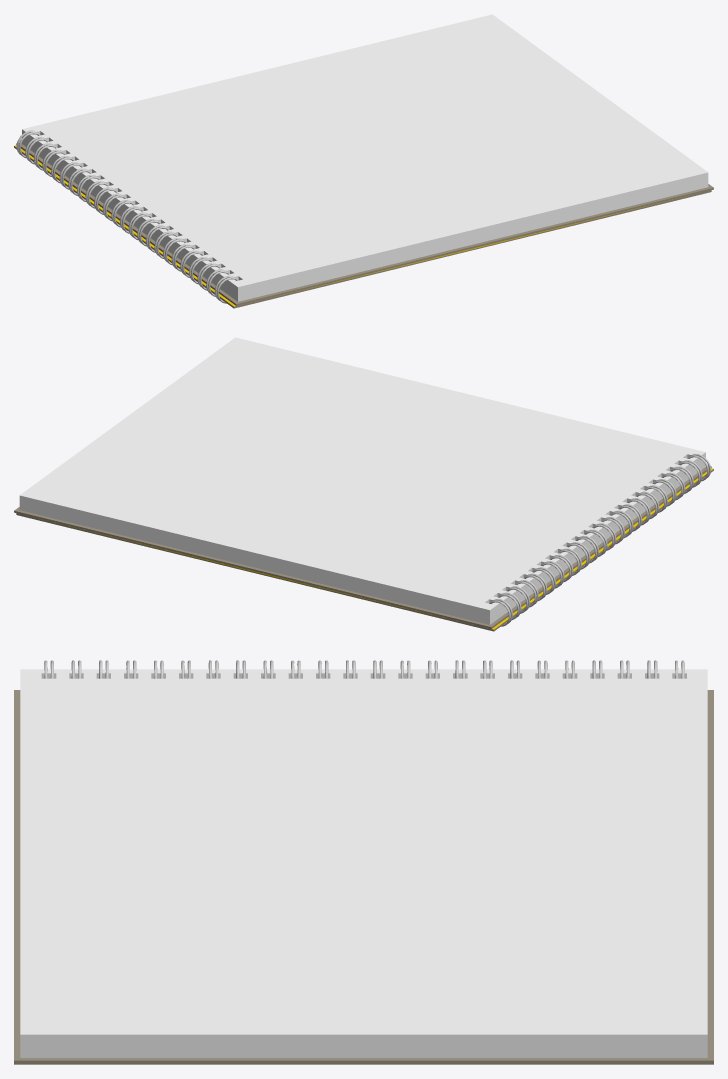
File: 430_スケッチブック小開.glb
The picture shows the model from 3 angles, top to bottom: view 1: azimuth 30°, elevation 25°; view 2: azimuth 150°, elevation 25°; view 3: azimuth 270°, elevation 25°; orthographic projection. The views are drawn at different scales.
Parts seen in each view (by area): view 1: 用紙部分, リング, 裏表紙, 表紙; view 2: 用紙部分, リング, 裏表紙, 表紙; view 3: 用紙部分, 裏表紙, リング, 表紙.
Boxes of the visible parts, left/top/right/bottom form: 用紙部分: left=22, top=14, right=708, bottom=301; リング: left=16, top=130, right=238, bottom=303; 裏表紙: left=16, top=143, right=713, bottom=305; 表紙: left=14, top=145, right=711, bottom=308; 用紙部分: left=19, top=337, right=705, bottom=624; リング: left=489, top=454, right=710, bottom=626; 裏表紙: left=14, top=465, right=711, bottom=628; 表紙: left=16, top=468, right=713, bottom=631; 用紙部分: left=20, top=669, right=707, bottom=1057; 裏表紙: left=14, top=690, right=713, bottom=1063; リング: left=44, top=660, right=684, bottom=678; 表紙: left=14, top=1063, right=713, bottom=1064.
Size of the model in its own units: 0.2774 by 0.0139 by 0.217.
Materials: 4 (1 with a texture image).
